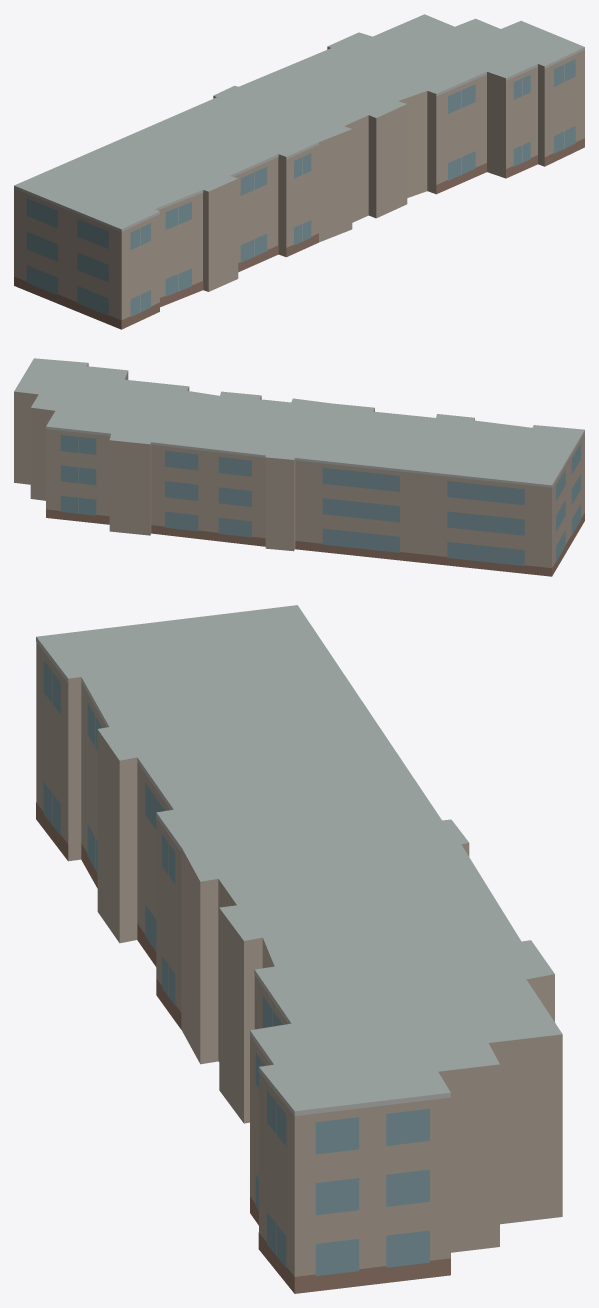
File: survey-upis-33017729.glb
The picture shows the model from 3 angles, top to bottom: view 1: azimuth 30°, elevation 25°; view 2: azimuth 150°, elevation 25°; view 3: azimuth 270°, elevation 25°; orthographic projection. The views are drawn at different scales.
Parts seen in each view (by area): view 1: survey-upis-33017729.tmp; view 2: survey-upis-33017729.tmp; view 3: survey-upis-33017729.tmp.
Boxes of the visible parts, x1,y1,x2,y2 form: survey-upis-33017729.tmp: (14, 14, 584, 329); survey-upis-33017729.tmp: (14, 358, 584, 576); survey-upis-33017729.tmp: (36, 605, 562, 1293).
Bounding box in the file's own units: 54.41 × 9.15 × 23.92.
